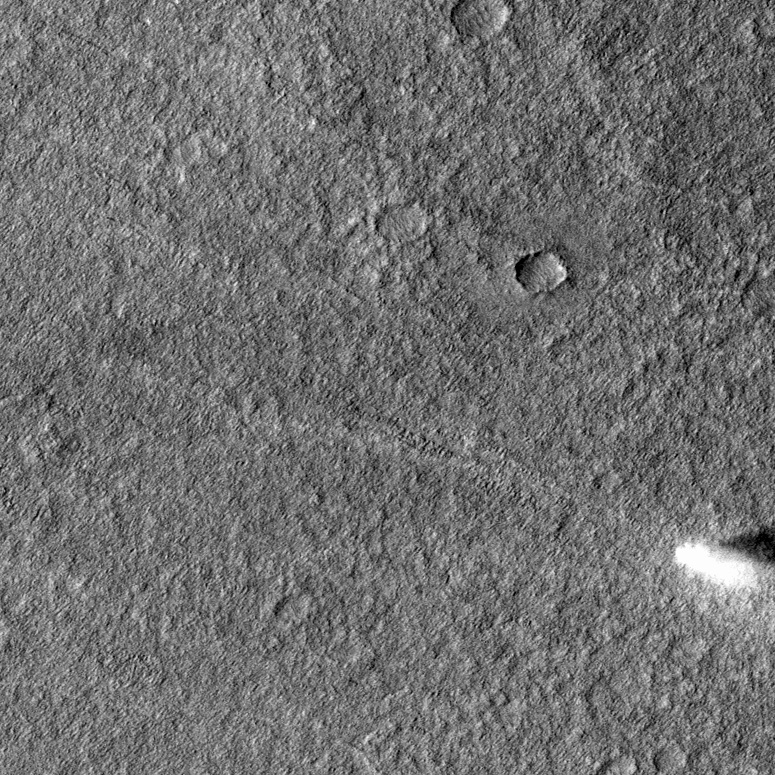dust_devil: (669, 518, 775, 593)
